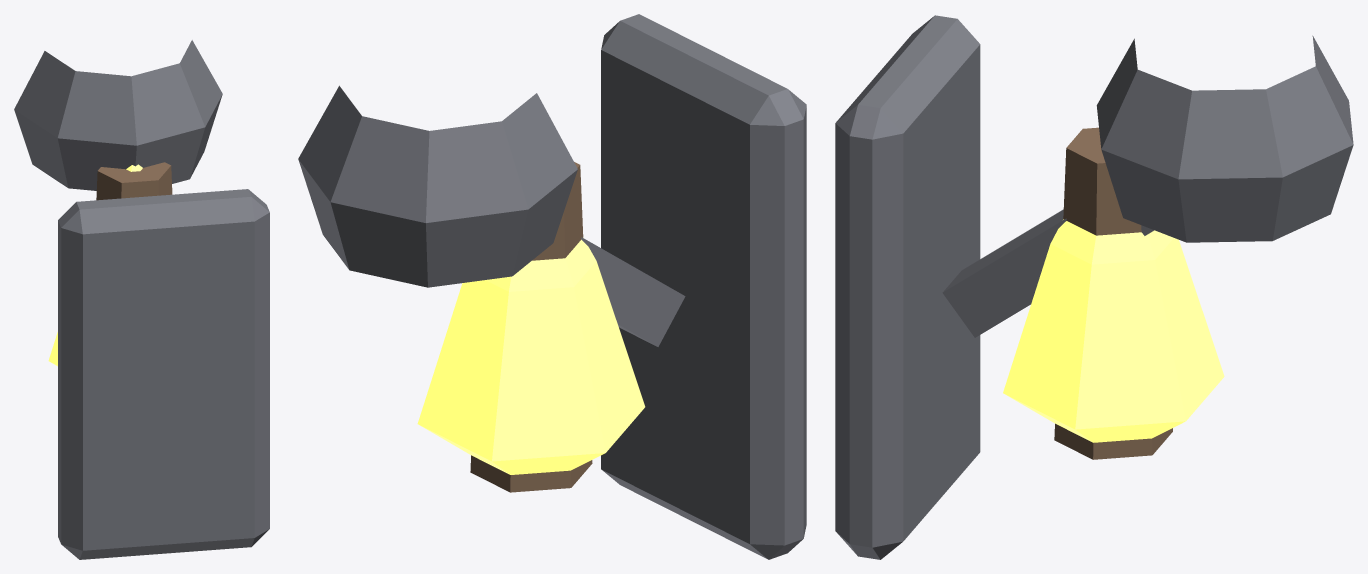
Rendered from town_torch_sconce.glb.
The picture shows the model from 3 angles, left to right: view 1: azimuth 30°, elevation 25°; view 2: azimuth 150°, elevation 25°; view 3: azimuth 270°, elevation 25°; orthographic projection. The views are drawn at different scales.
Parts seen in each view (by area): view 1: world; view 2: world; view 3: world.
Part boxes in pixels (box(x1,y1,x2,y2)): world: box(14, 40, 269, 559); world: box(298, 14, 806, 559); world: box(835, 15, 1353, 559).
Size of the model in its own units: 1.34 by 2 by 1.84.
